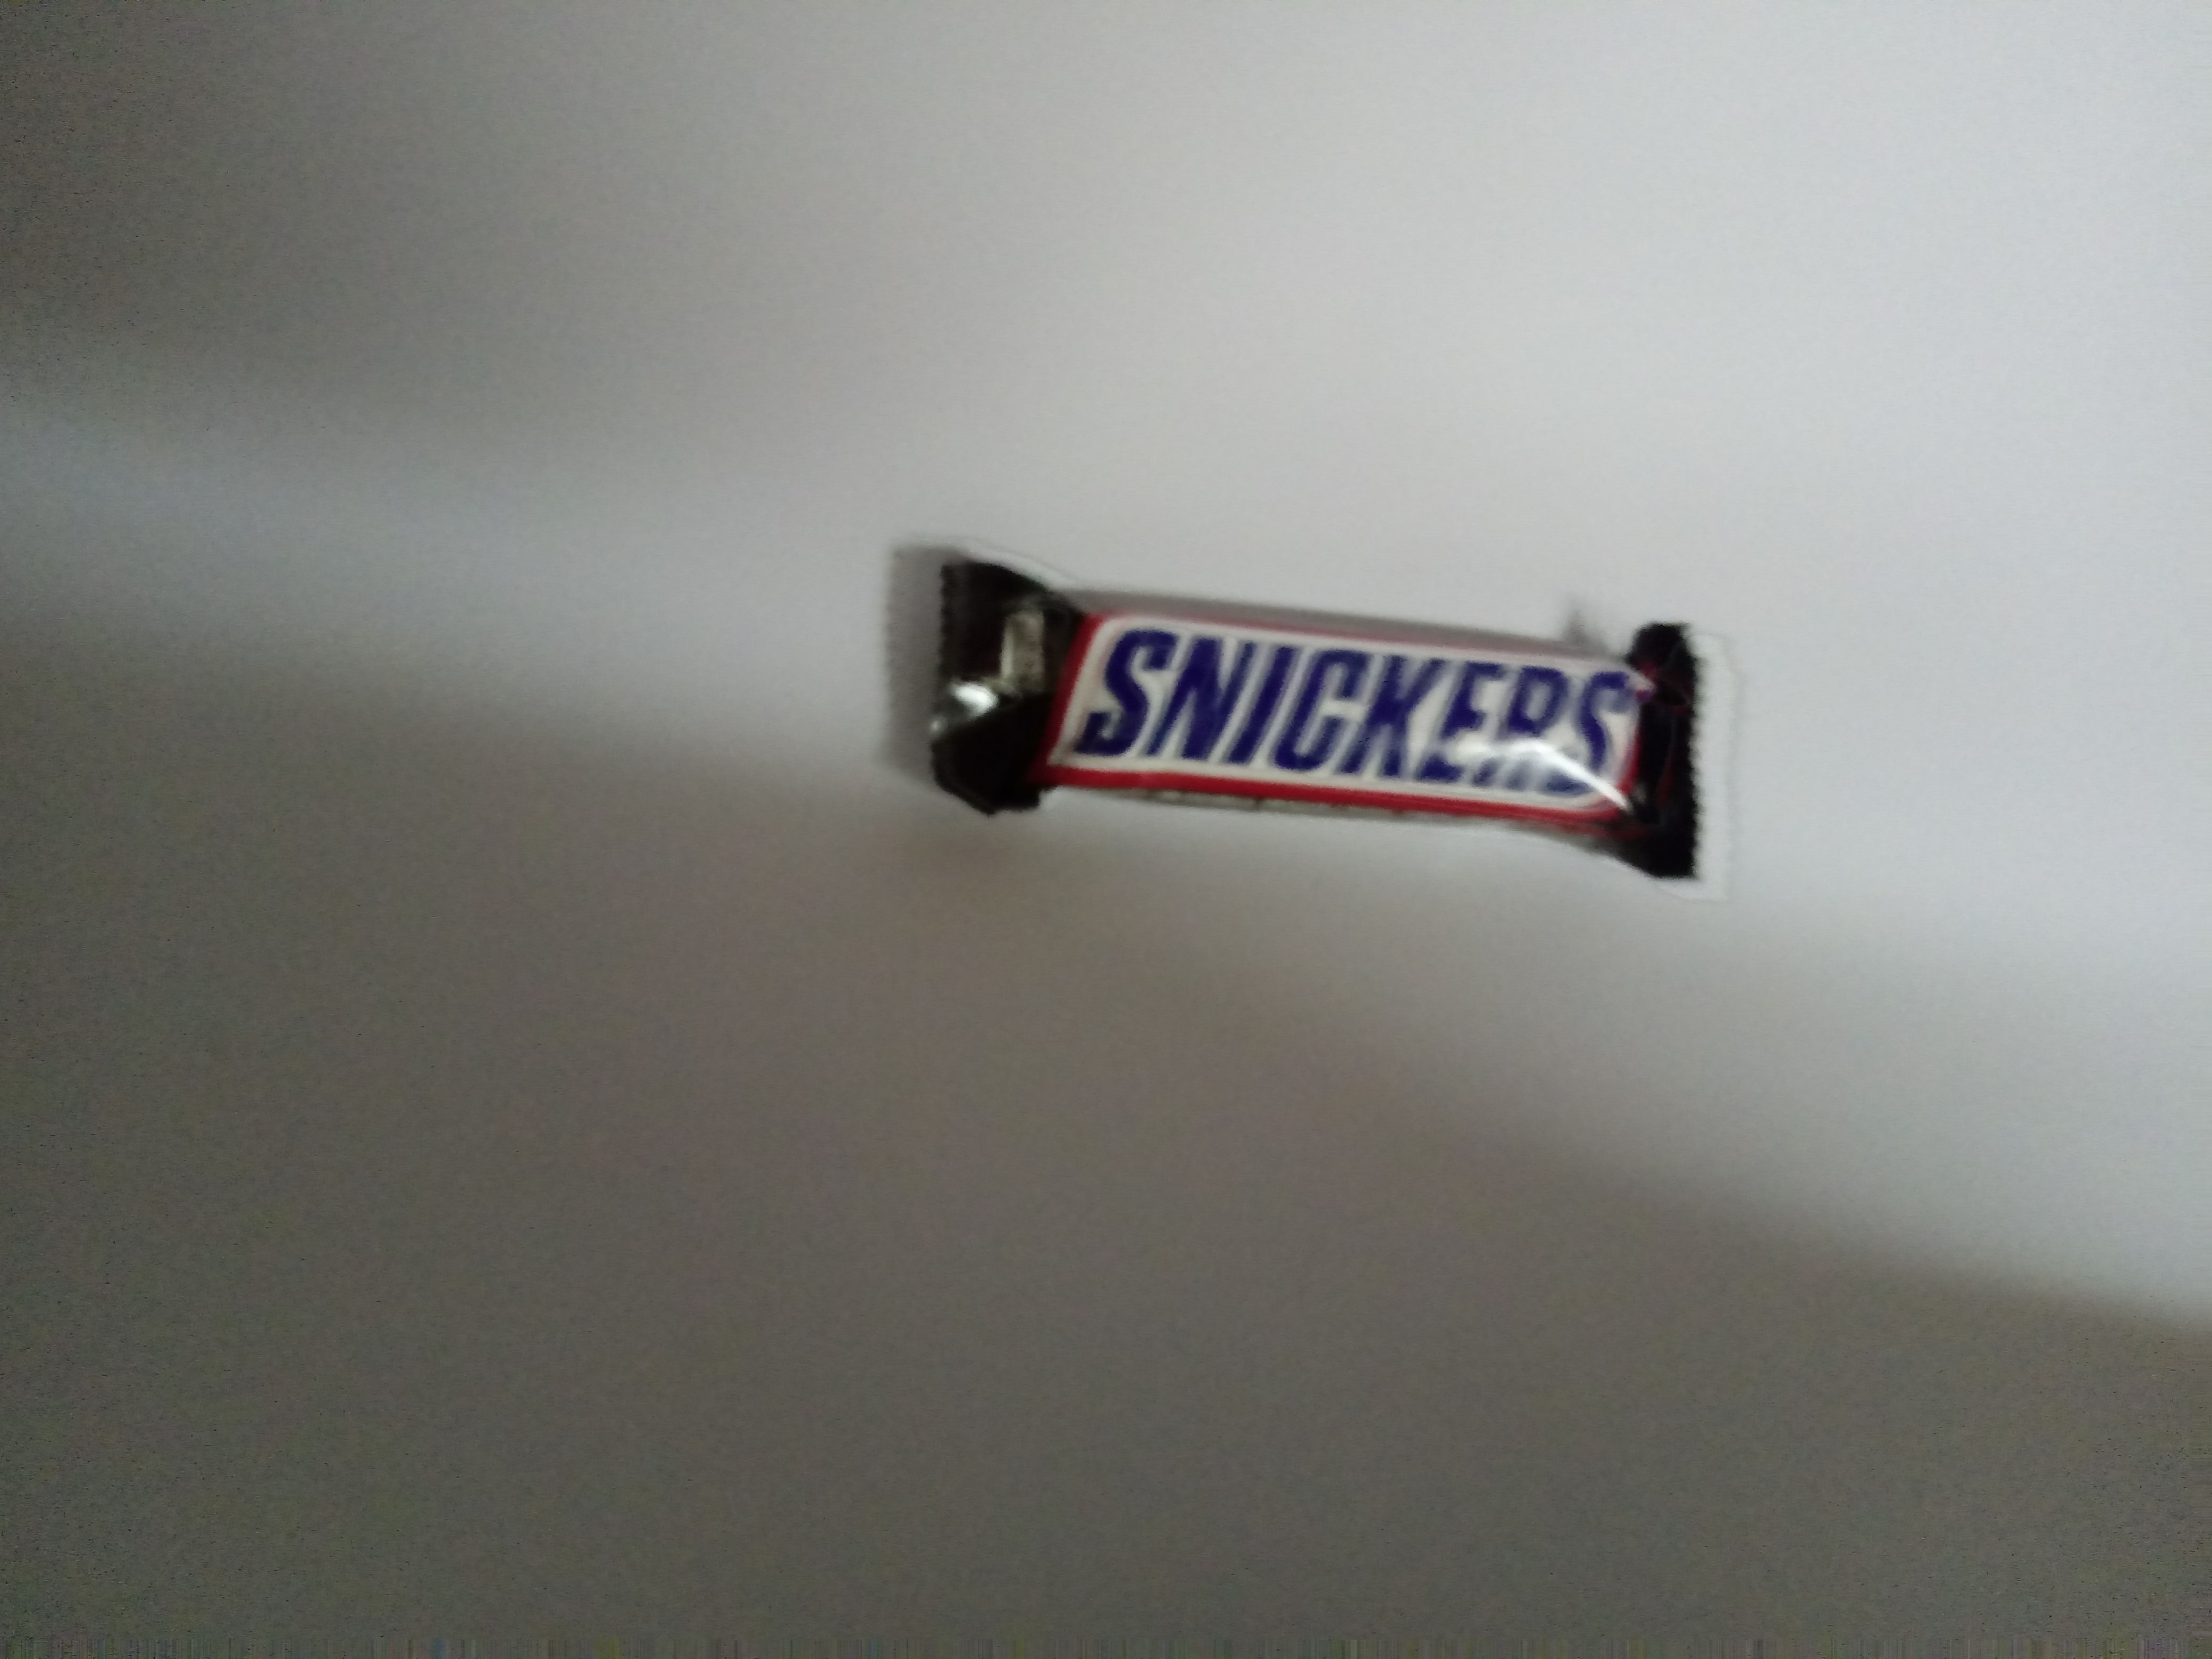snickers: (921, 533, 1719, 899)
